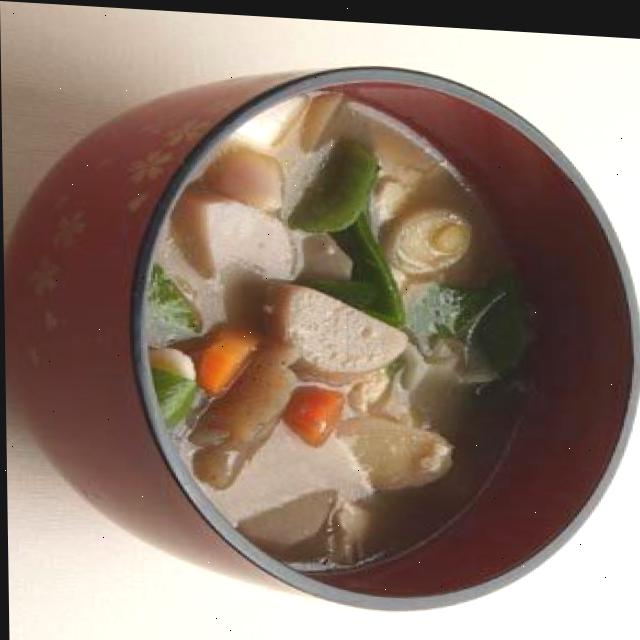蔬菜料理: (0, 0, 621, 640)
